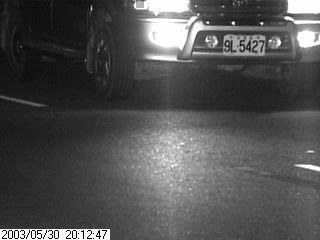plate: (222, 31, 267, 56)
